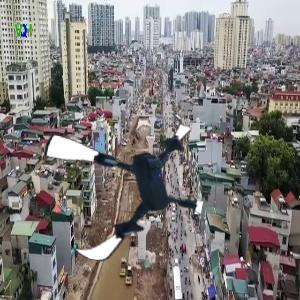drone: (39, 101, 207, 269)
